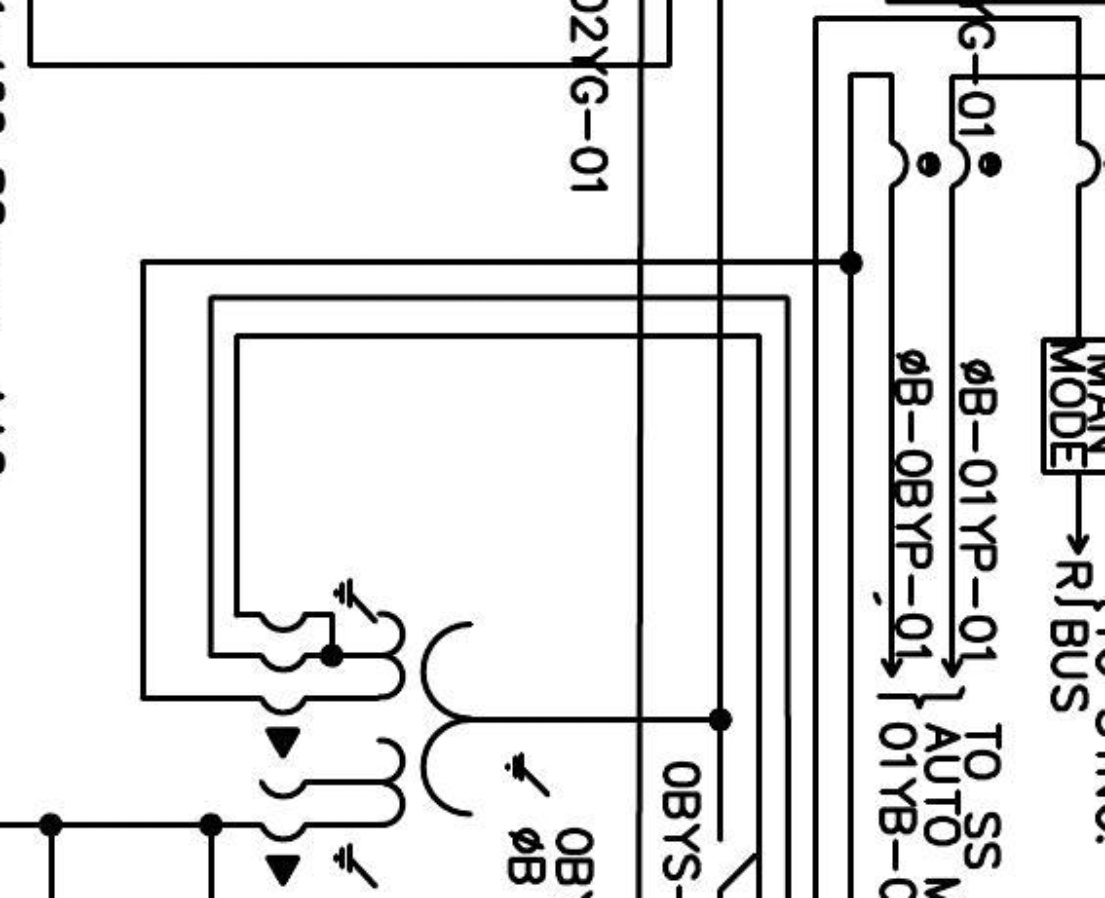115_ds: (716, 834, 756, 893)
115_vt_1p: (258, 575, 553, 890)
